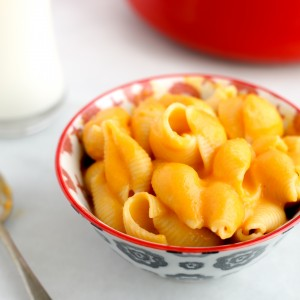macncheese: (81, 73, 300, 244)
